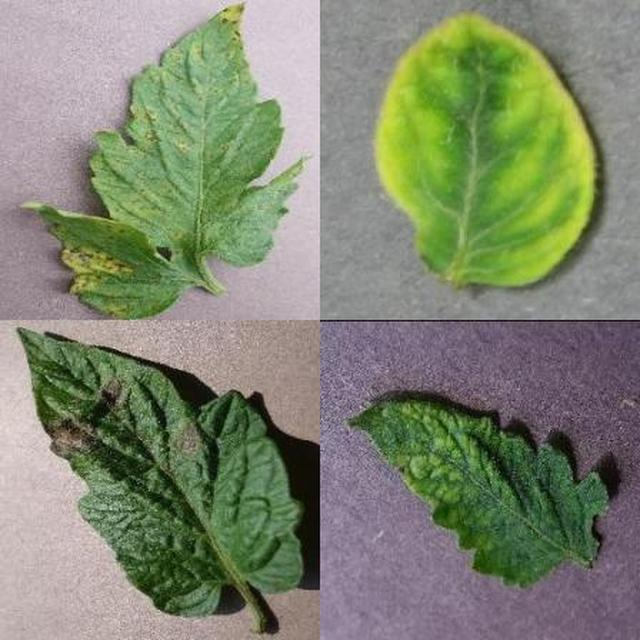Septoria Leaf: (233, 211, 640, 640)
